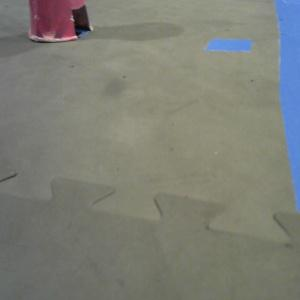middle: (28, 1, 93, 42)
